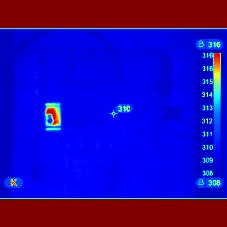Less: (48, 115, 53, 124)
